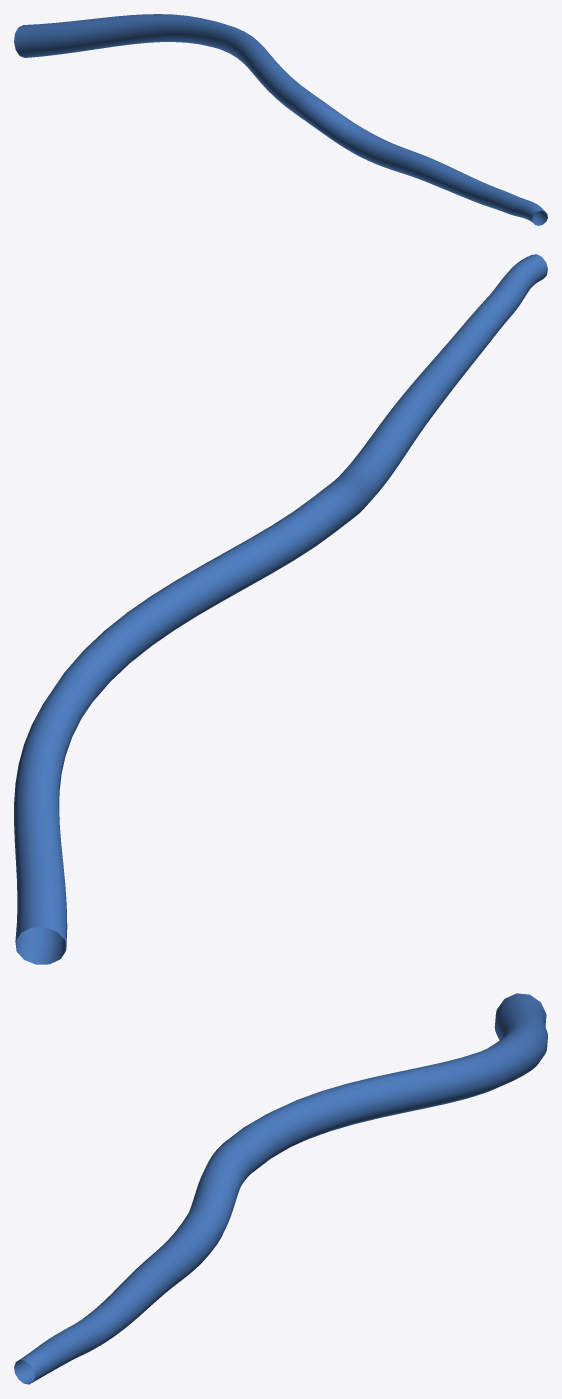
The picture shows the model from 3 angles, top to bottom: view 1: azimuth 30°, elevation 25°; view 2: azimuth 150°, elevation 25°; view 3: azimuth 330°, elevation 25°; orthographic projection. The views are drawn at different scales.
Visible parts, largest first — view 1: 左侧颈外静脉; view 2: 左侧颈外静脉; view 3: 左侧颈外静脉.
Part boxes in pixels (x1,y1,x2,y2): 左侧颈外静脉: [14, 14, 547, 225]; 左侧颈外静脉: [14, 254, 547, 964]; 左侧颈外静脉: [14, 993, 547, 1384].
Bounding box in the file's own units: 0.0312 × 0.031 × 0.1878.
